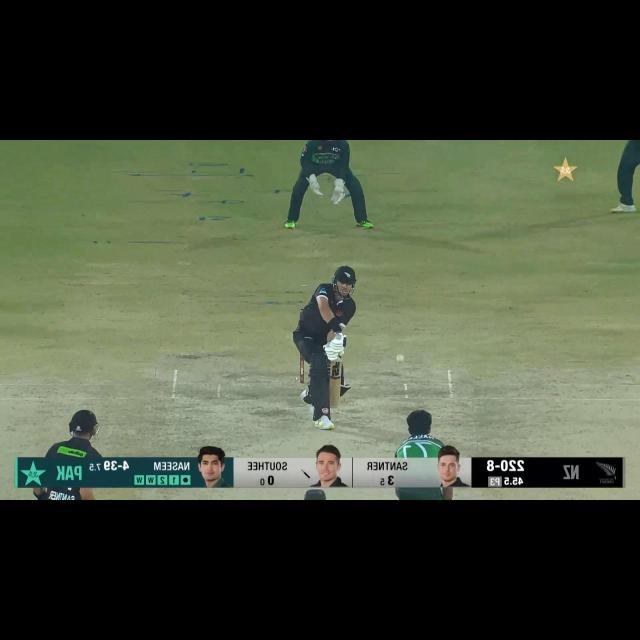bat: (327, 359, 341, 408)
toe: (328, 402, 342, 409)
